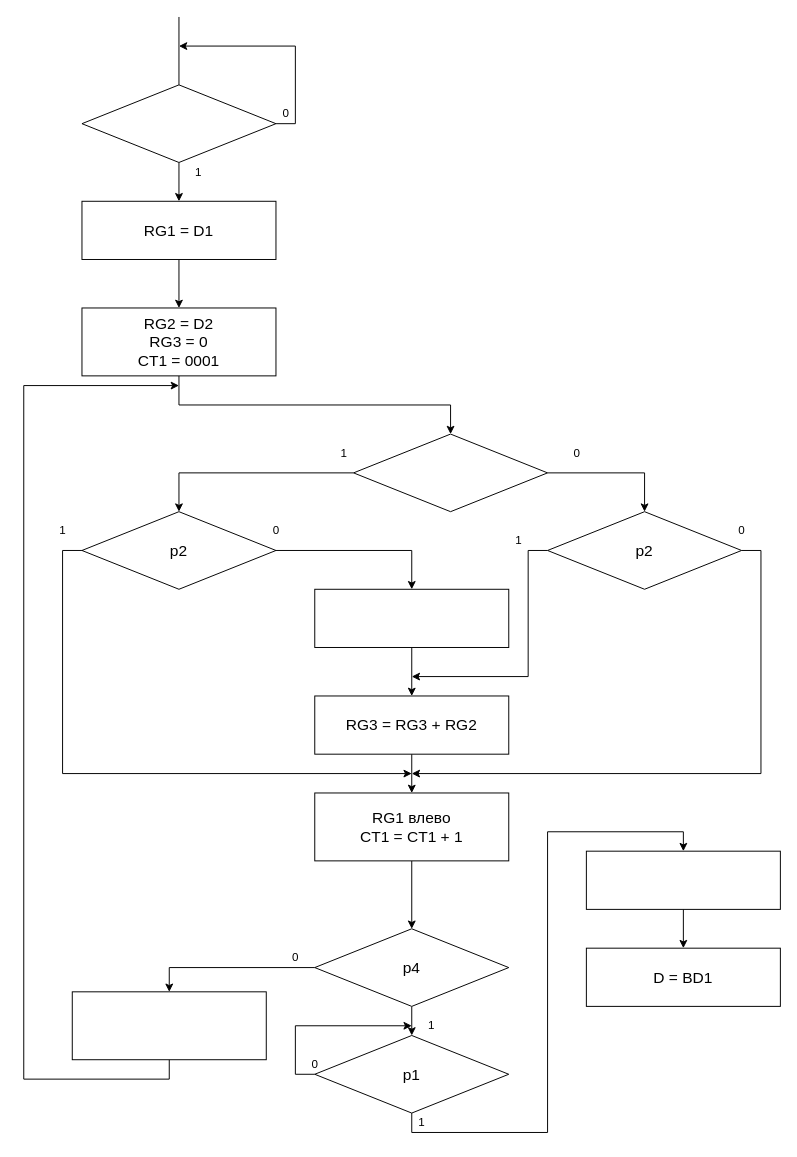
The diagram is 797 pixels wide and 1157 high, and some of its shapes have lost their labels. The shapes that lost their labels are listed below. From the top down, each one's centre as x and y in pixels, then its label:
At pixel 178 123: "p0".
At pixel 450 472: "p3".
At pixel 411 617: "RG2 = -RG2".
At pixel 682 879: "D = BD2".
At pixel 168 1025: "RG3 влево".
